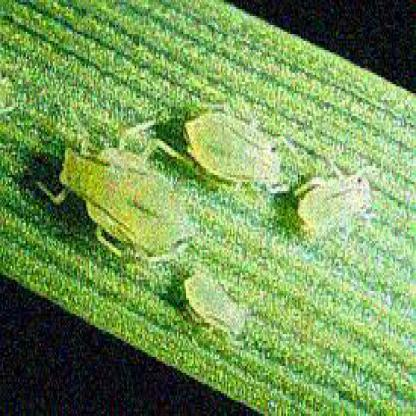schizaphis graminum: (60, 121, 196, 265), (187, 114, 285, 187), (295, 163, 373, 226)
